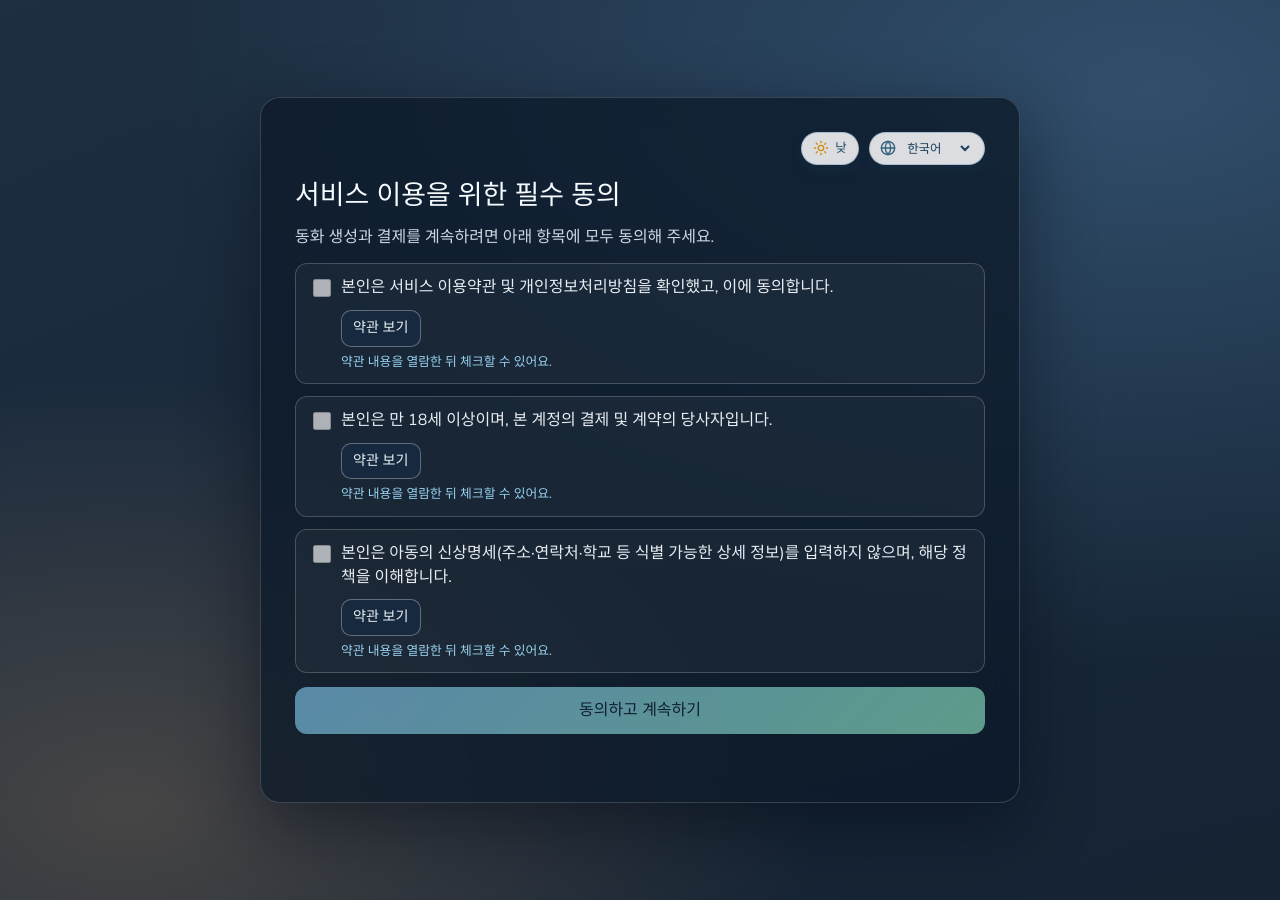
Test: AgreementsPage › 약관 문서를 열람하기 전에는 체크할 수 없다
Check: the button "동의하고 계속하기" is disabled, box [295,687,985,734]
Check: the number of checkboxes is 3, box [313,279,331,297]; [313,412,331,430]; [313,545,331,563]
Click the button "약관 보기" below "본인은 서비스 이용약관 및 개인정보처리방침을 확인했고, 이에 동의합니다." at (381, 328), box [341,310,420,346]
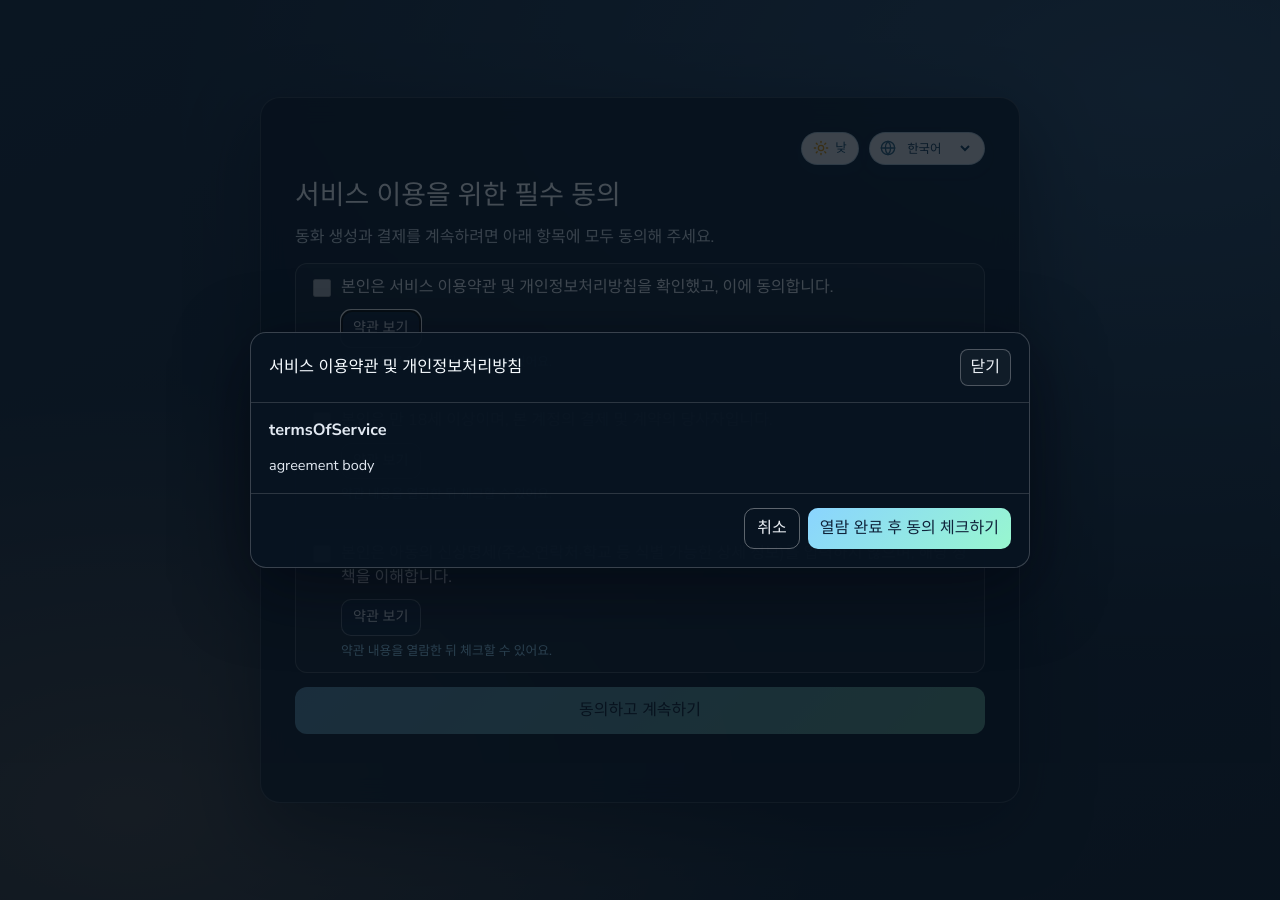
Check: the dialog is shown, box [250,332,1030,568]
Click the button "열람 완료 후 동의 체크하기" at (909, 528), box [808,508,1011,549]
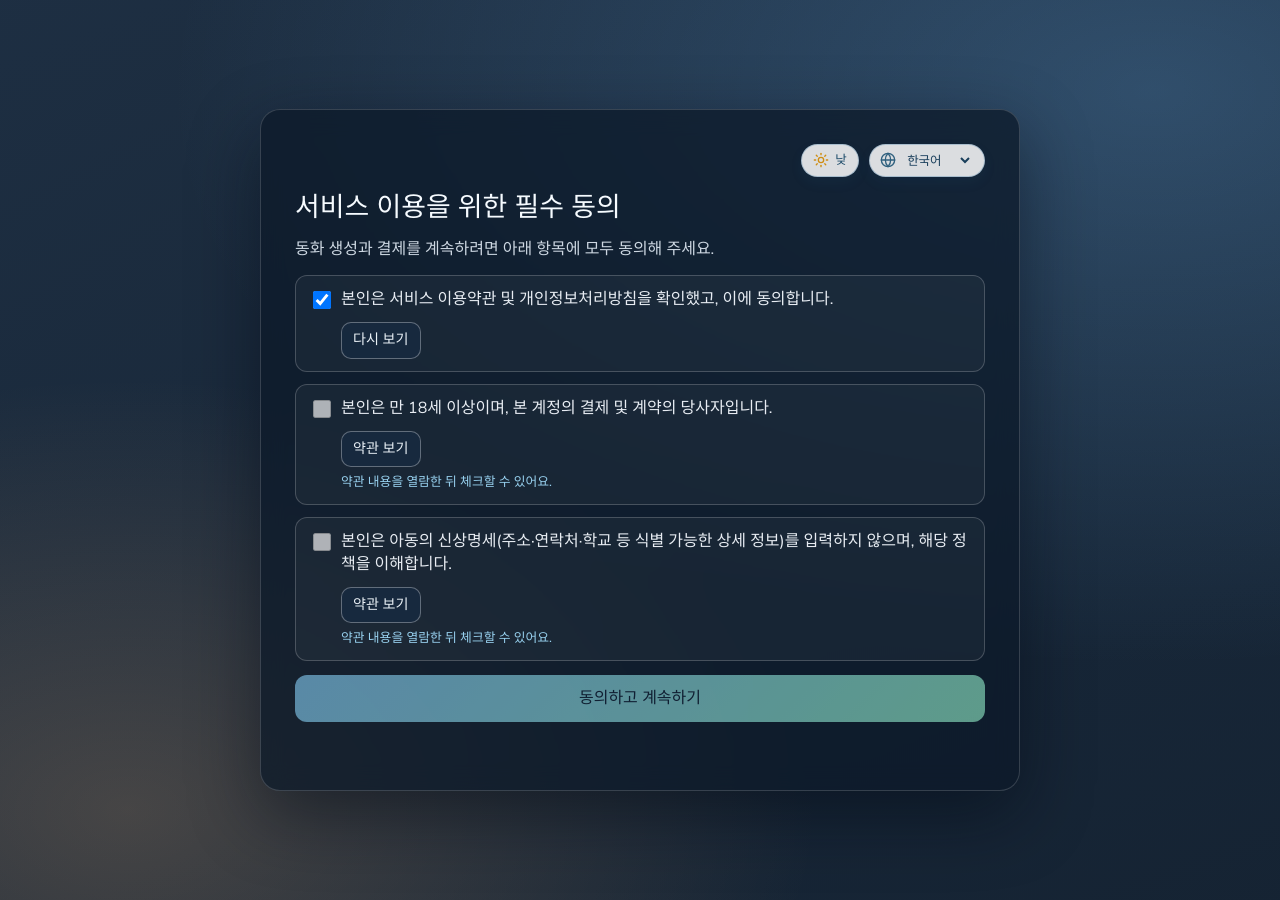
Check: the checkbox labelled "본인은 만 18세 이상이며, 본 계정의 결제 및 계약의 당사자입니다." is disabled, box [313,400,331,418]
Check: the dialog is gone
Check: the checkbox labelled "본인은 서비스 이용약관 및 개인정보처리방침을 확인했고, 이에 동의합니다." is checked, box [313,291,331,309]
